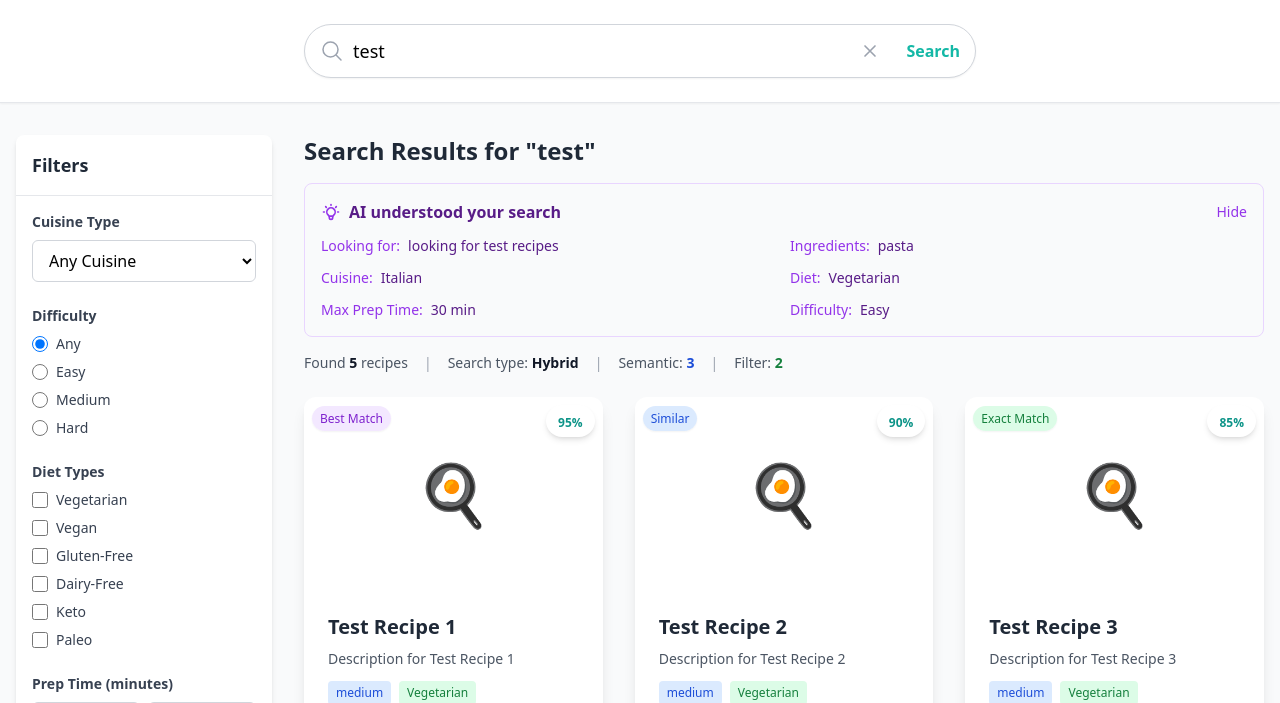
it: SearchResultsPage › Search Results › collapses/expands parsed query section
This screenshot has width=1280, height=703.
Expected: the heading "AI understood your search" is shown, [349,200,561,224]
Click the button "Hide": (1232, 212) [1216,202,1247,222]
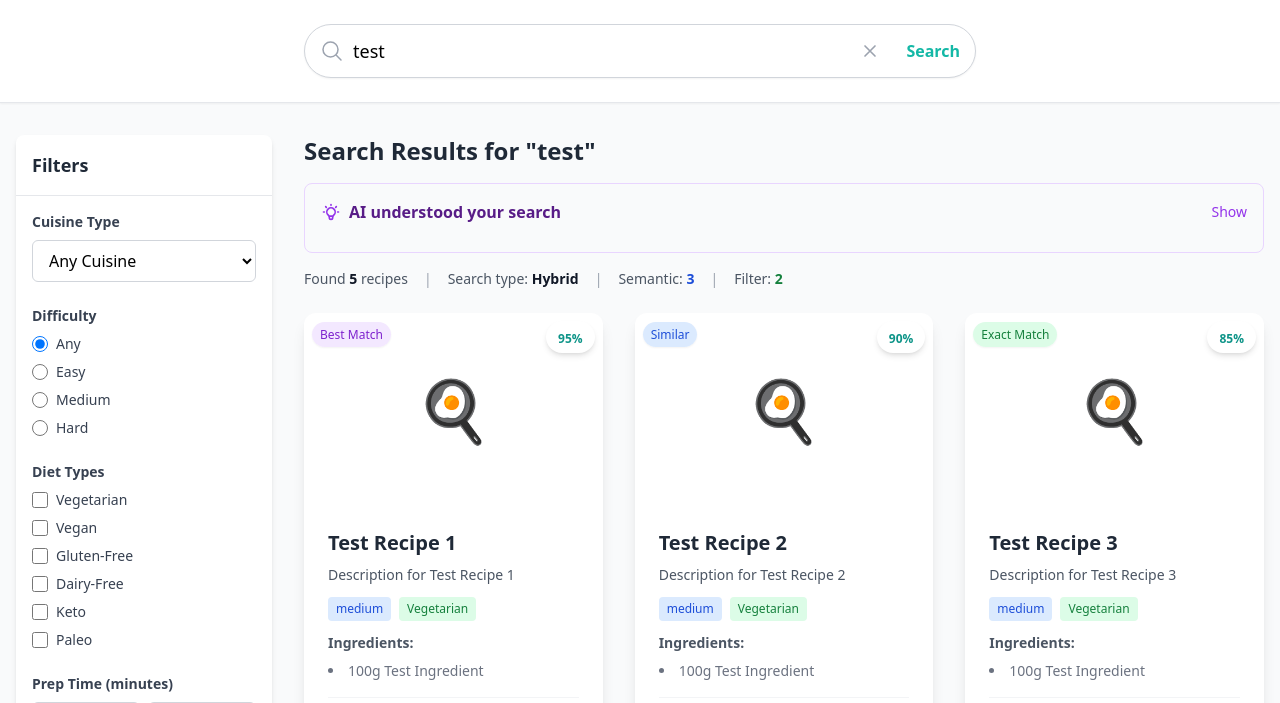
Now the button "Show" is shown, box [1212,202,1247,222]
